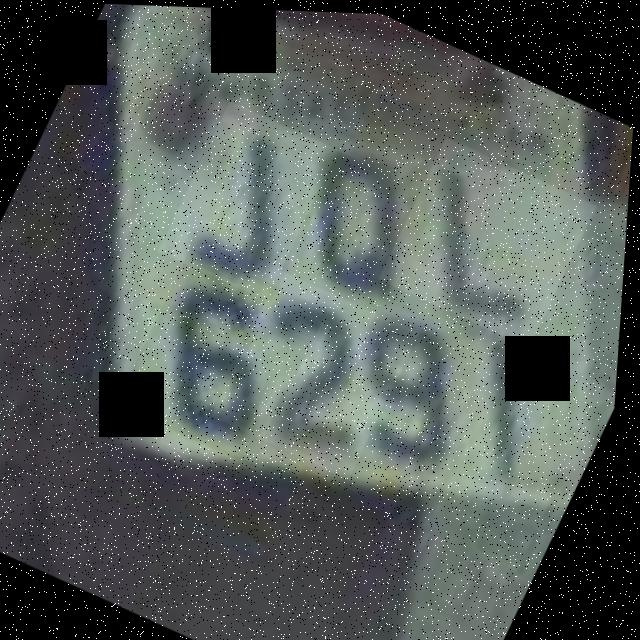1: (433, 313, 582, 473)
2: (213, 266, 425, 478)
6: (117, 243, 334, 466)
9: (322, 283, 515, 482)
J: (378, 132, 602, 344), (158, 97, 342, 300)
